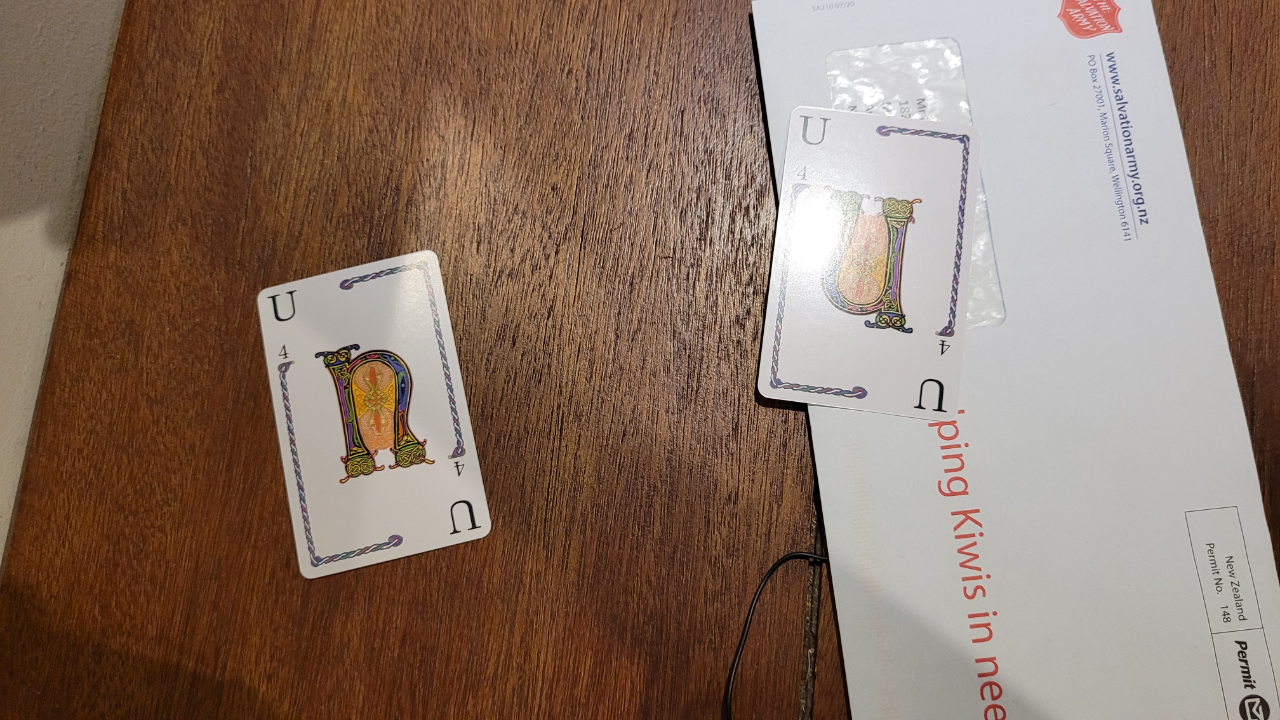quiddler_card: (246, 242, 517, 610), (749, 91, 995, 442)
